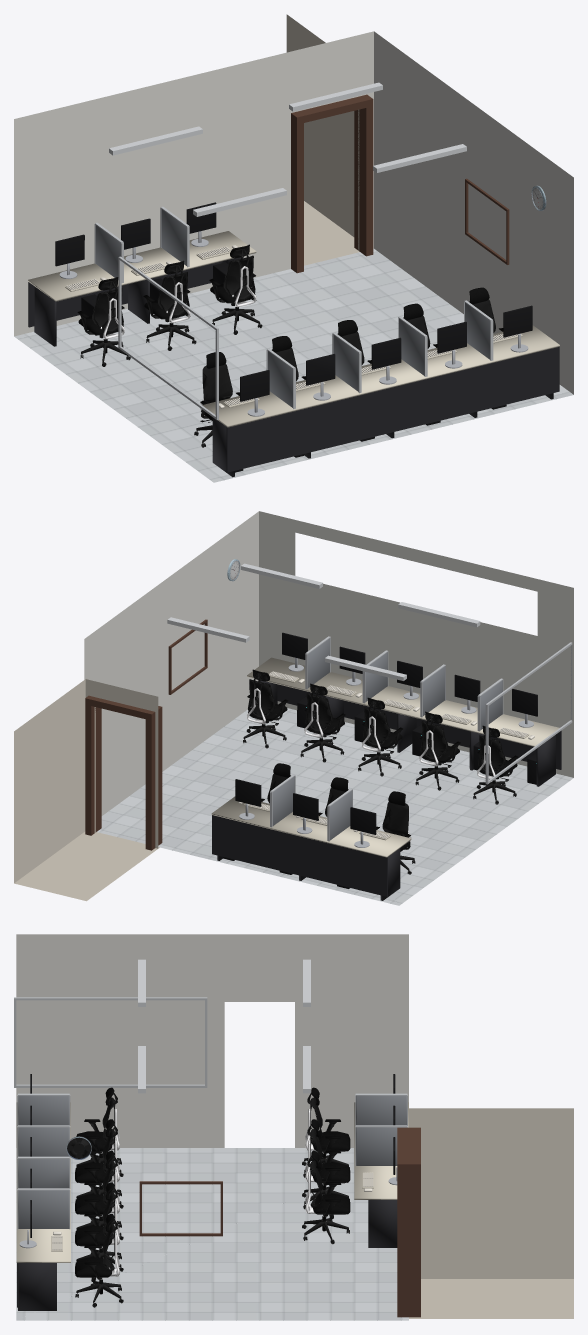
File: set2.glb
3 renders of one model, top to bottom at view 1: azimuth 30°, elevation 25°; view 2: azimuth 150°, elevation 25°; view 3: azimuth 270°, elevation 25°, orthographic. The views are drawn at different scales.
Parts seen in each view (by area): view 1: Static; view 2: Static; view 3: Static.
Boxes of the visible parts, box(x1,y1,x2,y2) form: Static: box(14, 14, 573, 482); Static: box(14, 511, 573, 905); Static: box(14, 934, 573, 1320).
Bounding box in the file's own units: 5.2 × 3 × 7.13.
Materials: 23 (9 with a texture image).
